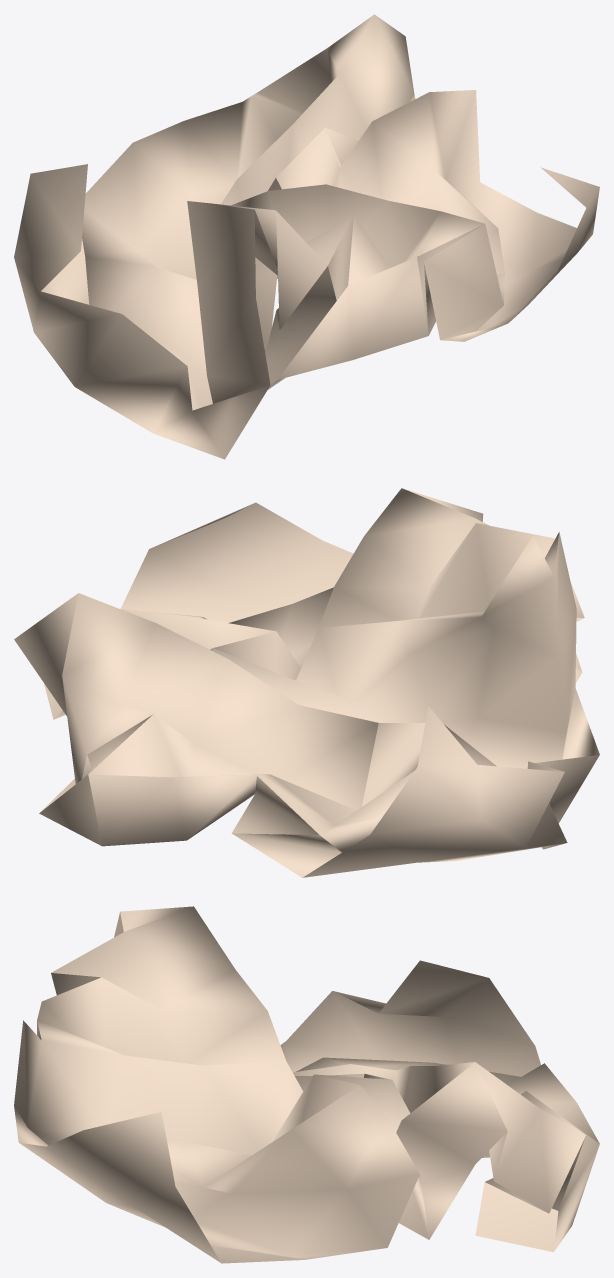
The model's file is cloth.fbx.
The picture shows the model from 3 angles, top to bottom: view 1: azimuth 30°, elevation 25°; view 2: azimuth 150°, elevation 25°; view 3: azimuth 270°, elevation 25°; orthographic projection. The views are drawn at different scales.
Visible parts, largest first — view 1: cloth; view 2: cloth; view 3: cloth.
Boxes of the visible parts, <box> form: cloth: <box>14,14,599,459</box>; cloth: <box>14,488,599,877</box>; cloth: <box>14,906,599,1263</box>.
Bounding box in the file's own units: 100 × 50 × 100.
